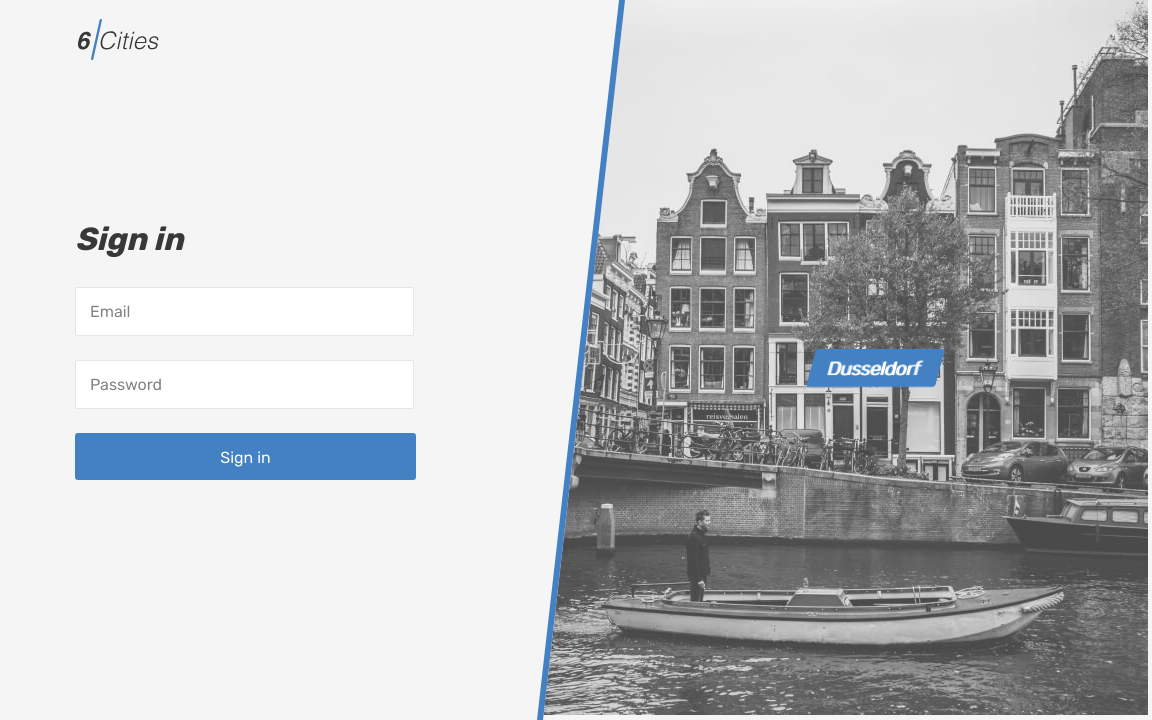
Test: LoginPage › should display error for invalid password
This screenshot has width=1152, height=720.
Type "test@example.com" into the field with placeholder "Email" at (244, 311), box left=75, top=286, right=414, bottom=336
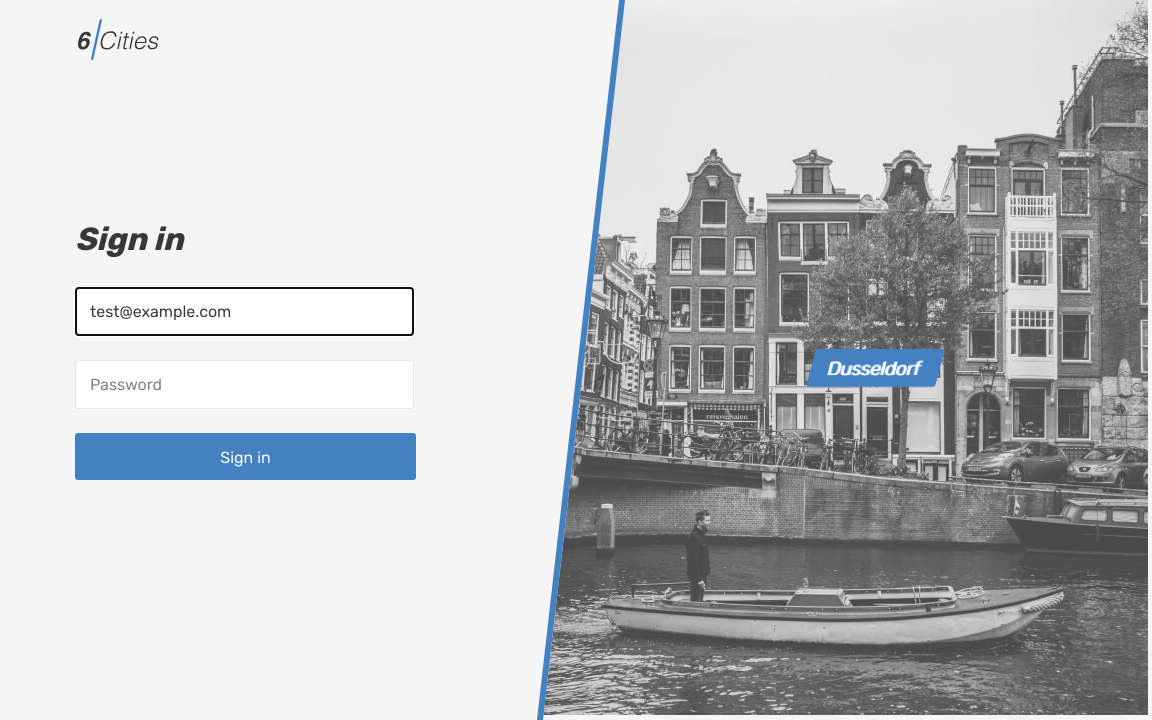
Type "onlyletters" into the password field with placeholder "Password" at (244, 384), box left=75, top=360, right=414, bottom=408
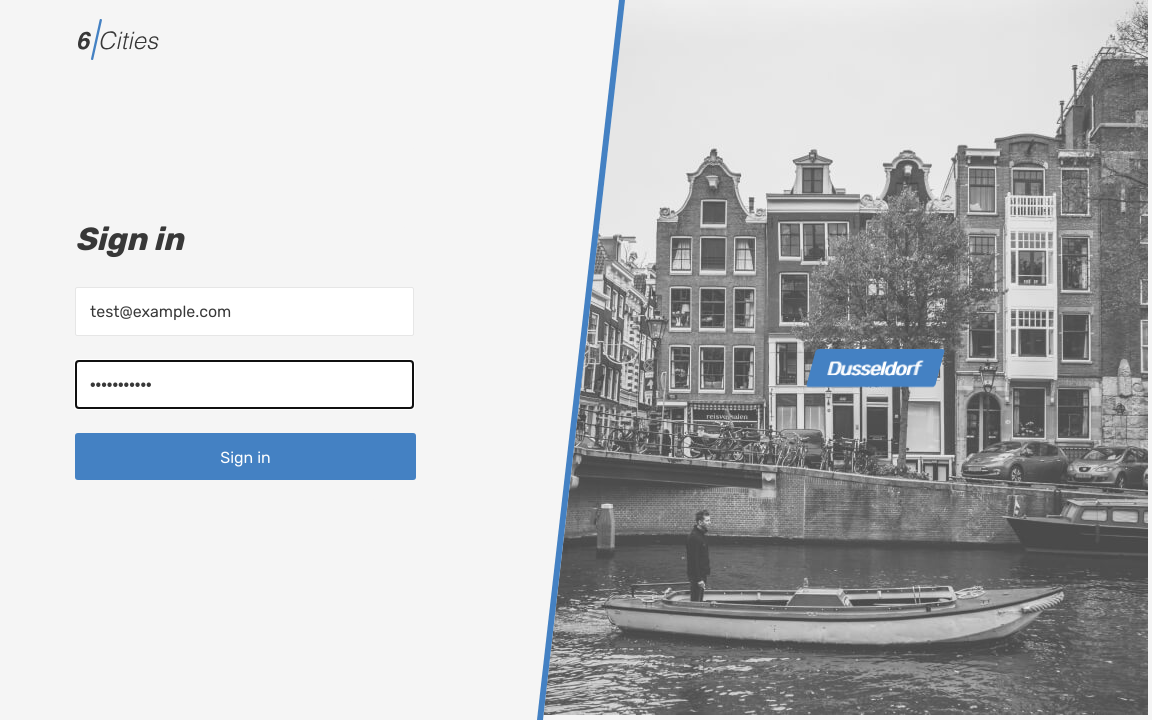
Click the button "Sign in" at (246, 456), box left=75, top=432, right=416, bottom=480
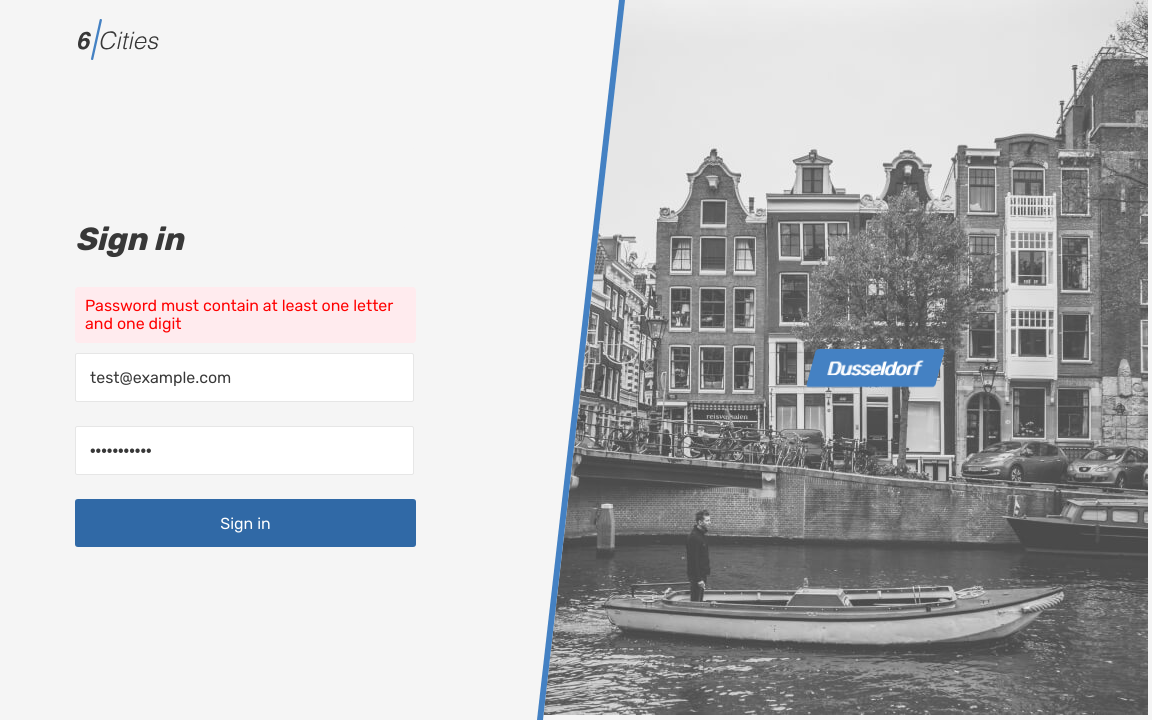
Check: the text "Password must contain at least one letter and one digit" is shown, box left=75, top=286, right=416, bottom=343
